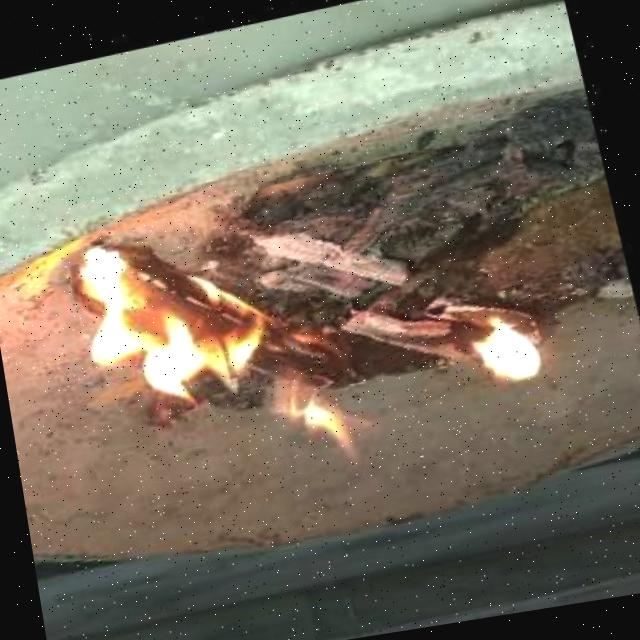fire: (64, 179, 376, 510), (449, 292, 578, 424)
